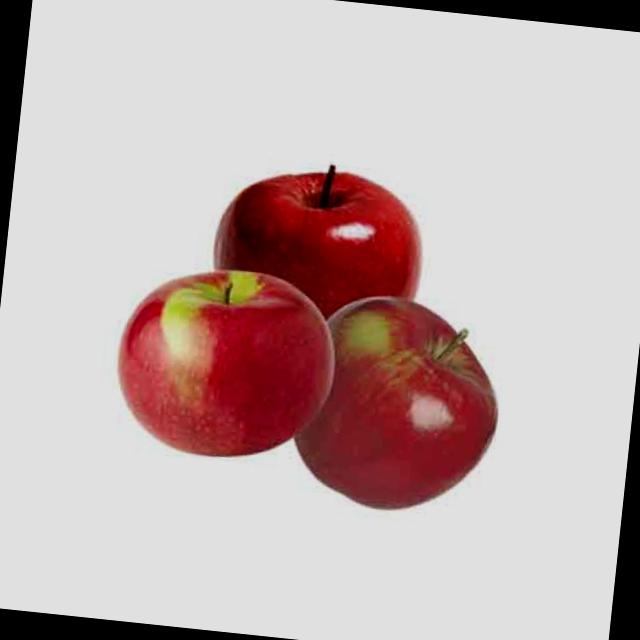apple: (190, 150, 440, 390), (286, 288, 522, 536), (106, 258, 352, 482)
